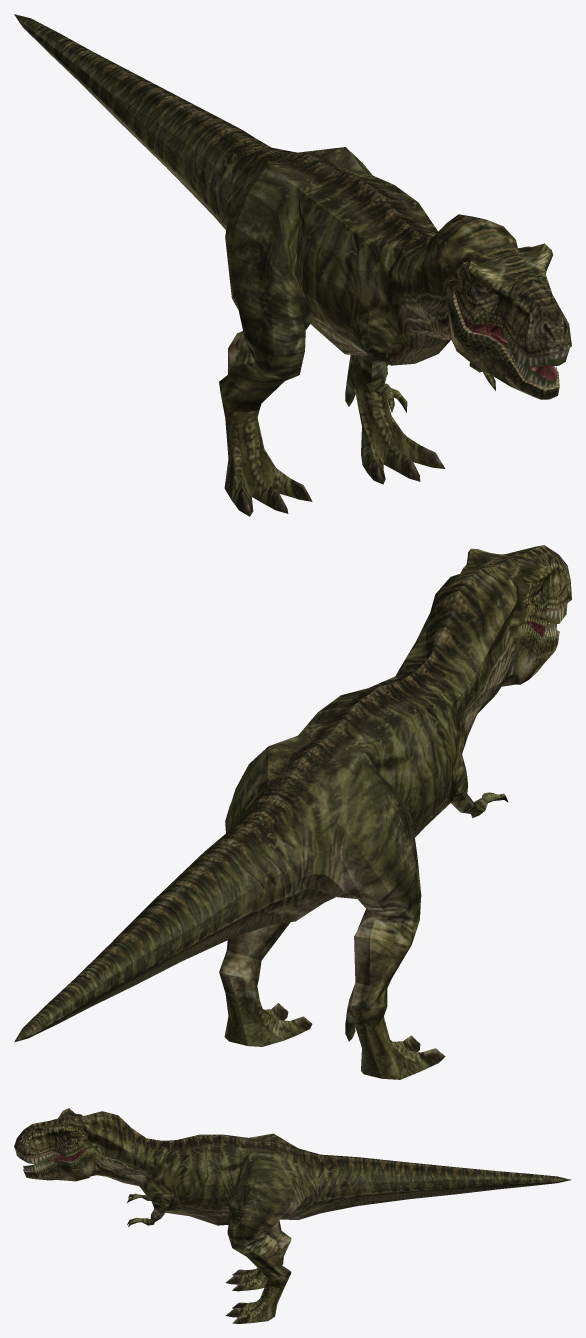
The model's file is trex.glb.
3 views of the same model, one above another, from view 1: azimuth 30°, elevation 25°; view 2: azimuth 150°, elevation 25°; view 3: azimuth 270°, elevation 25° (orthographic). The views are drawn at different scales.
Parts seen in each view (by area): view 1: trex; view 2: trex; view 3: trex.
Boxes of the visible parts, box(x1,y1,x2,y2) form: trex: box(14, 14, 571, 516); trex: box(14, 545, 571, 1079); trex: box(14, 1108, 571, 1323).
Bounding box in the file's own units: 2.94 × 5.17 × 13.96.
Materials: 1 (1 with a texture image).
